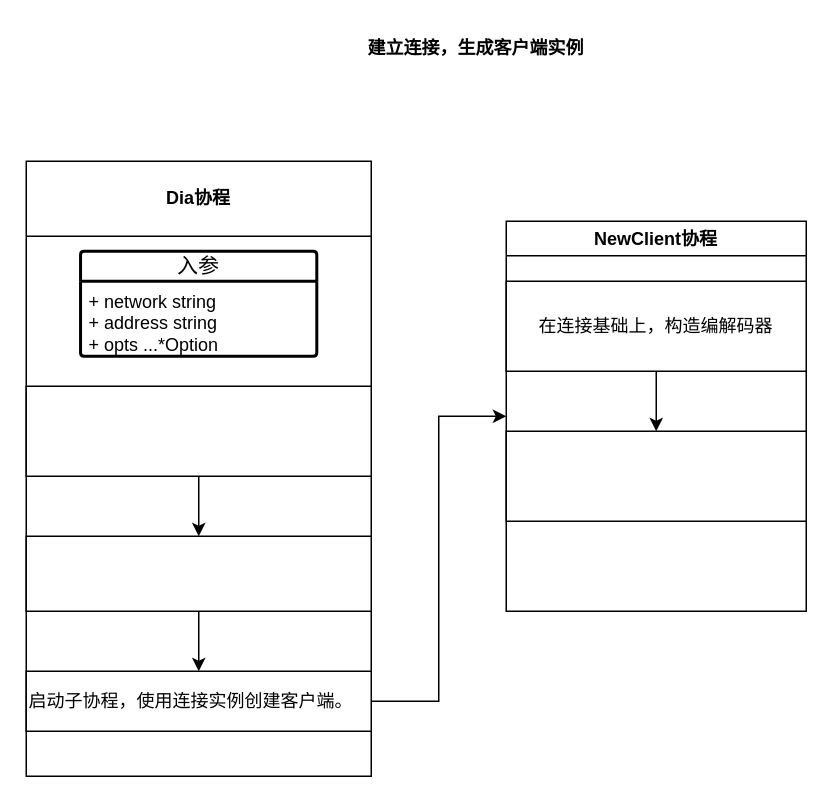
This 833x803 diagram has some shape labels left out. The centre of each missing label's shape, as x and y in pixels:
"net.DialTimeout：可超时的API，向服务端监听端口发起连接。" goes at [198,573].
"parseOptions：解析Option结构，用户可自定义 连接超时时间 、 处理请求超时时间 。" goes at [198,430].
"使用编解码器，Json序列化Option结构，发送给服务端。通过Option结构，传递序列化算法" goes at [655,475].
